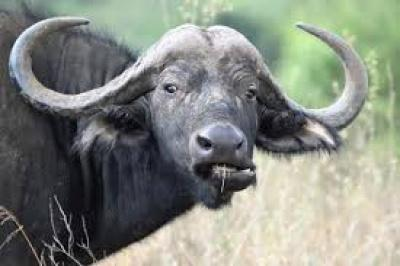buffalo: (0, 8, 366, 257)
